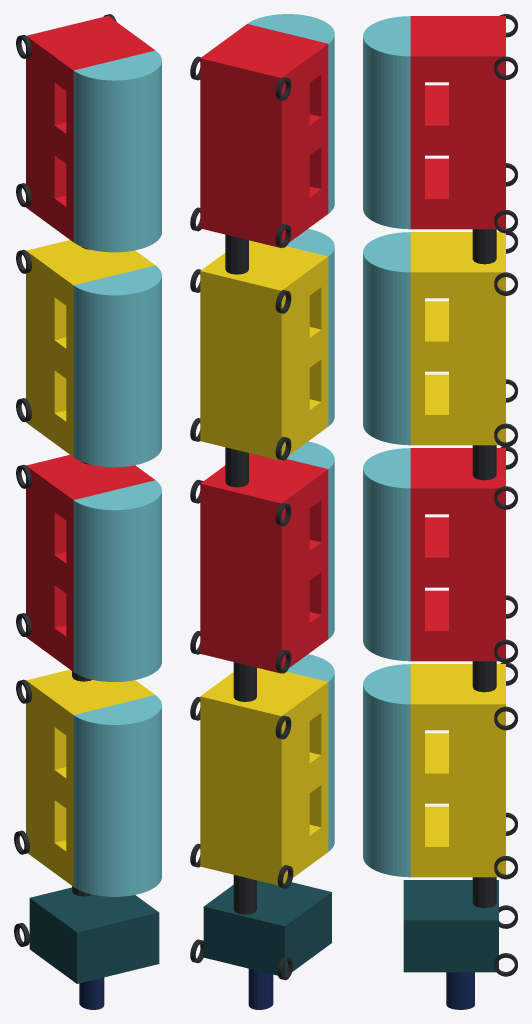
Rendered from tinker.obj.
3 renders of one model, left to right at view 1: azimuth 30°, elevation 25°; view 2: azimuth 150°, elevation 25°; view 3: azimuth 270°, elevation 25°, orthographic.
Visible parts, largest first — view 1: group_0_7720667, group_0_15277357, group_0_16768282, group_0_1855578, group_0_2829873, group_0_1650274; view 2: group_0_15277357, group_0_16768282, group_0_1855578, group_0_7720667, group_0_2829873, group_0_1650274; view 3: group_0_15277357, group_0_7720667, group_0_16768282, group_0_1855578, group_0_2829873, group_0_1650274.
Part boxes in pixels (bbox=[...]): group_0_7720667: bbox=[73, 50, 161, 896]; group_0_15277357: bbox=[26, 16, 155, 671]; group_0_16768282: bbox=[26, 240, 154, 886]; group_0_1855578: bbox=[29, 887, 159, 983]; group_0_2829873: bbox=[14, 14, 116, 946]; group_0_1650274: bbox=[79, 977, 104, 1009]; group_0_15277357: bbox=[200, 24, 328, 673]; group_0_16768282: bbox=[200, 240, 328, 885]; group_0_1855578: bbox=[203, 880, 331, 975]; group_0_7720667: bbox=[247, 14, 334, 851]; group_0_2829873: bbox=[190, 56, 293, 980]; group_0_1650274: bbox=[248, 968, 273, 1009]; group_0_15277357: bbox=[410, 16, 505, 661]; group_0_7720667: bbox=[363, 16, 410, 877]; group_0_16768282: bbox=[410, 232, 505, 877]; group_0_1855578: bbox=[403, 880, 498, 972]; group_0_2829873: bbox=[472, 14, 517, 976]; group_0_1650274: bbox=[446, 972, 474, 1009].
Size of the model in its own units: 22.5 by 224 by 32.49.
